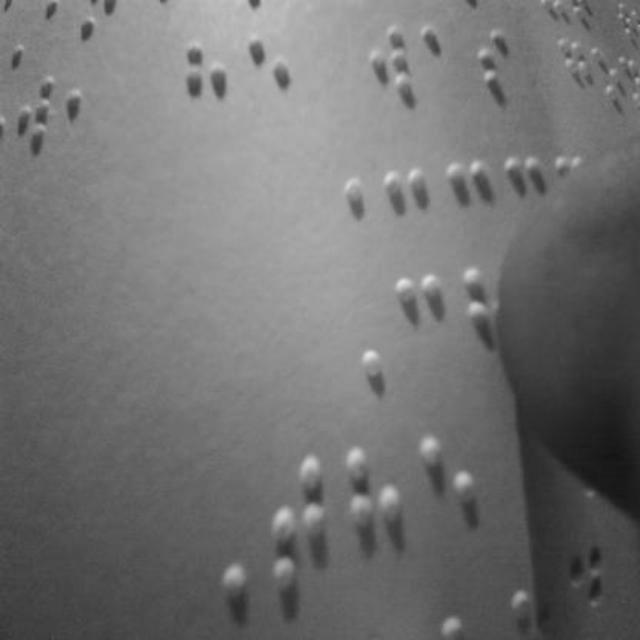braiile: (418, 430, 486, 580), (266, 453, 332, 603), (340, 444, 404, 590), (394, 268, 460, 386), (67, 51, 123, 160), (245, 34, 298, 148), (473, 23, 529, 127), (185, 40, 237, 150), (419, 19, 466, 126), (366, 17, 418, 113), (8, 66, 56, 166)
